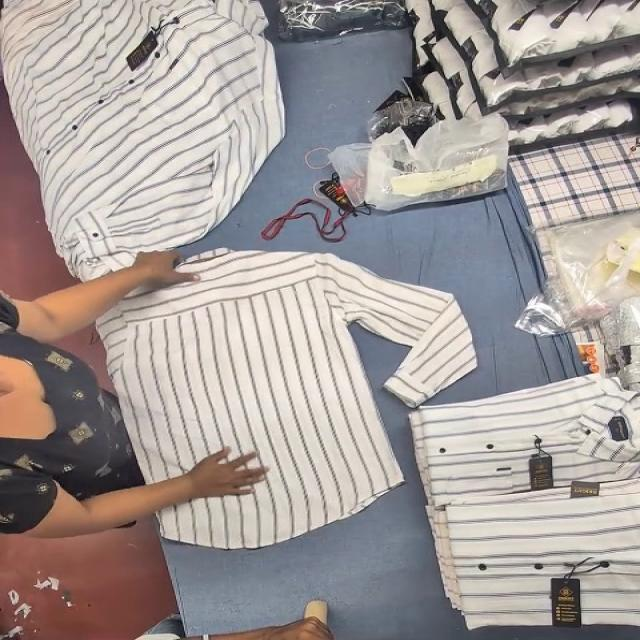new-garment: (113, 249, 475, 549)
